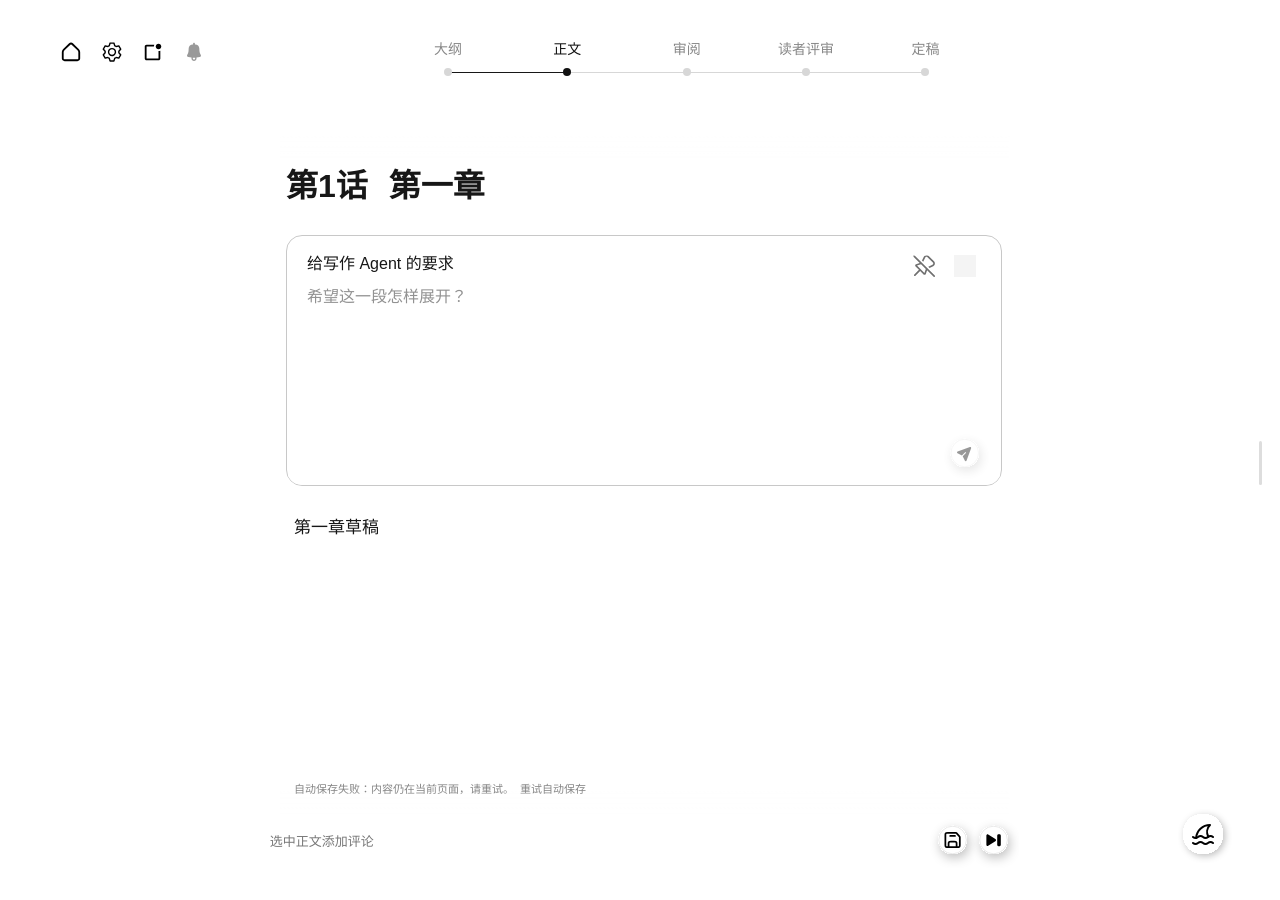
Scenario: Studio Assistant › displays error and recovers draft if assistant request fails
The width and height of the screenshot is (1280, 900).
Step 1. Click the button named "Gura" → (1203,834), box [1183, 814, 1223, 854]
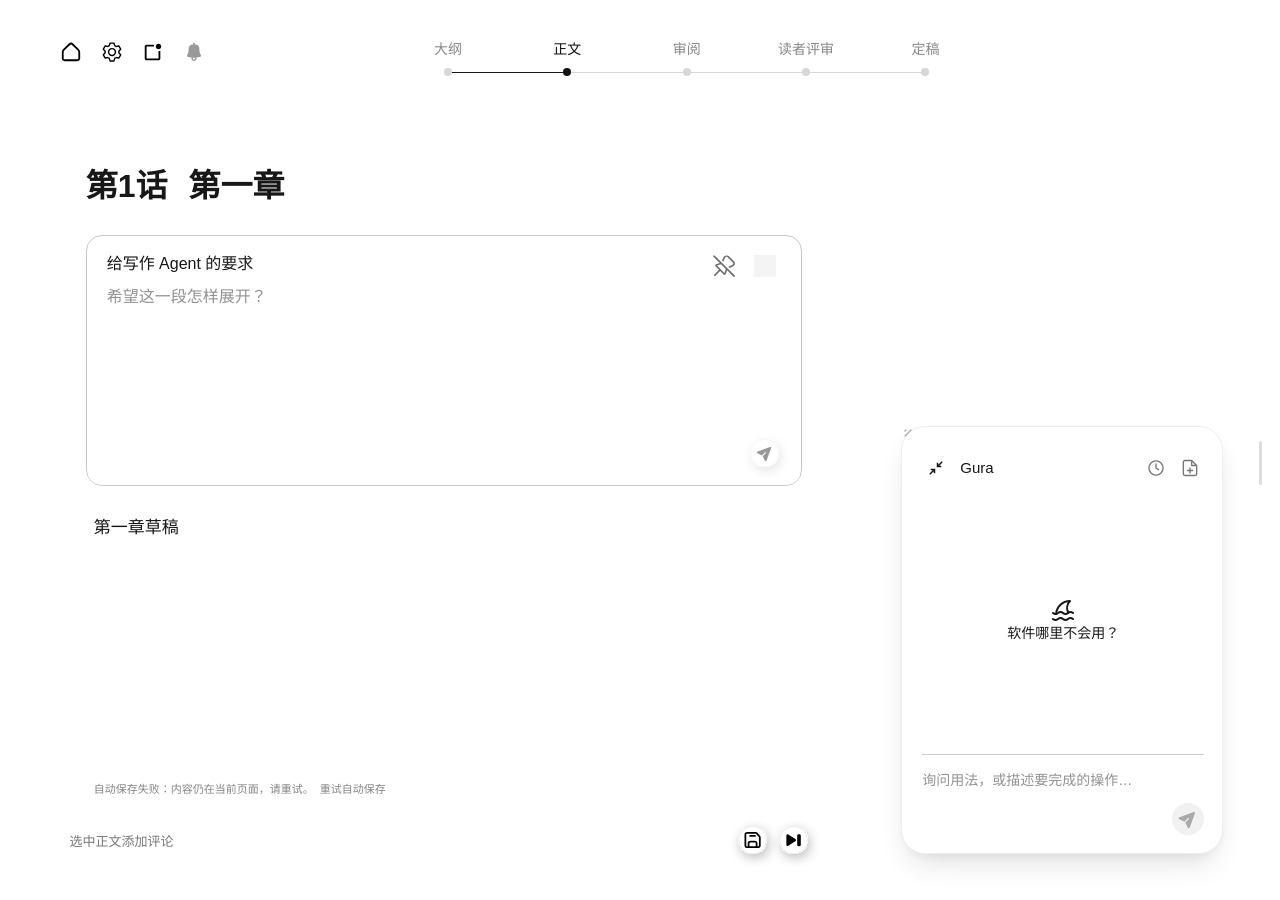
Step 2. Type "未能送达的消息" into the text box named "给 Gura 的消息" → (1063,781), box [922, 769, 1204, 793]
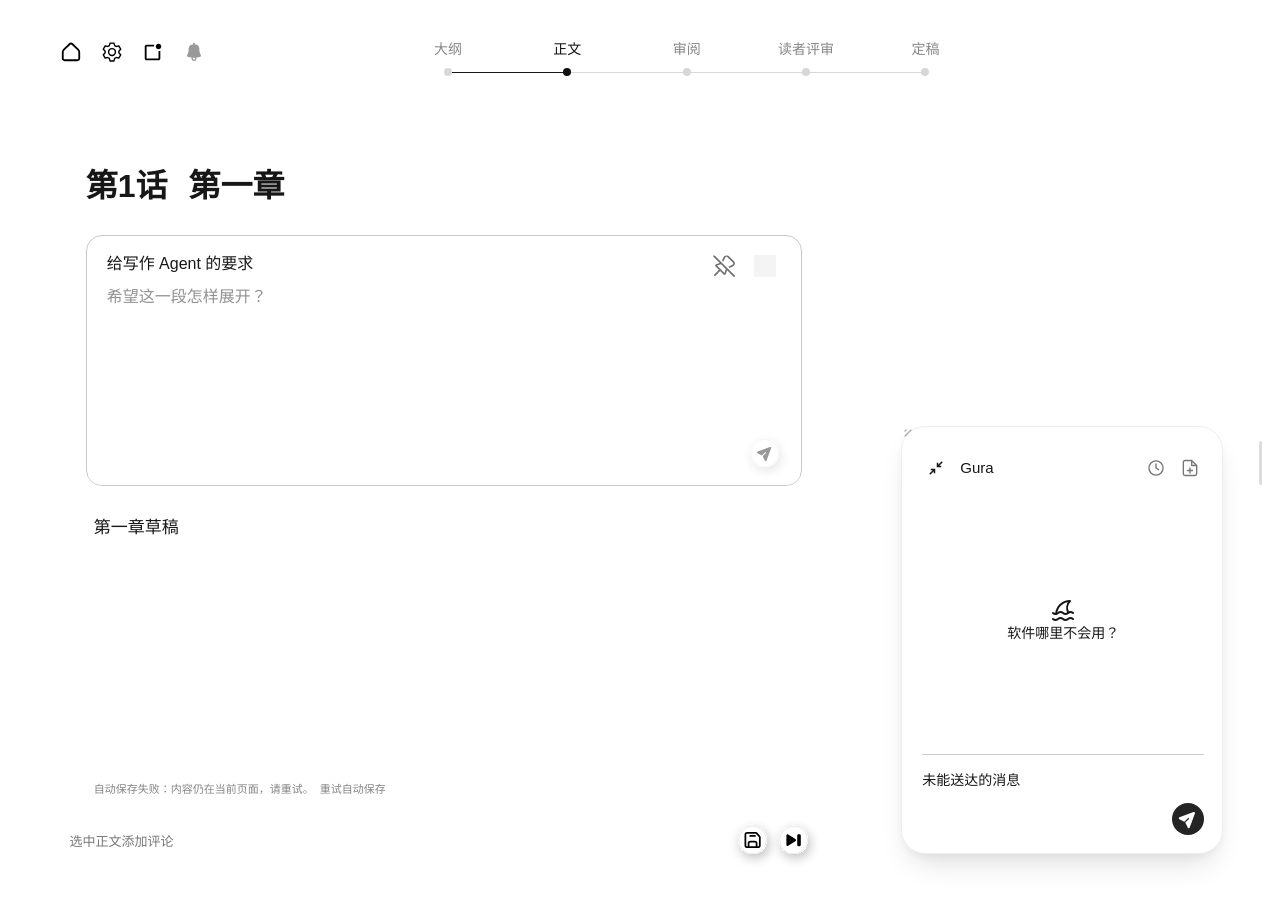
Step 3. Click the button named "发送给 Gura" → (1188,819), box [1172, 803, 1204, 835]
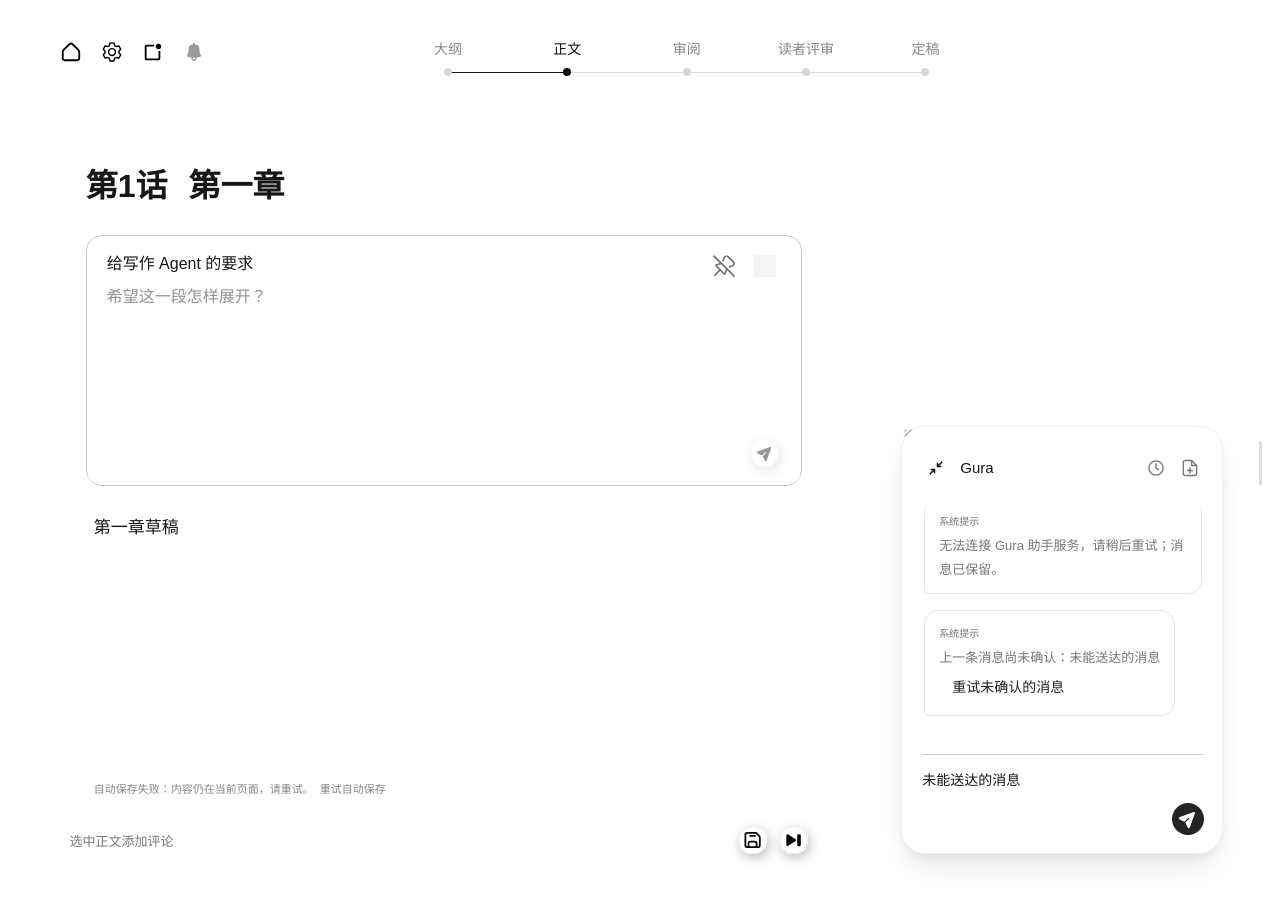
Expected: the text "无法连接 Gura 助手服务，请稍后重试；消息已保留。" is shown, [939, 534, 1187, 581]
